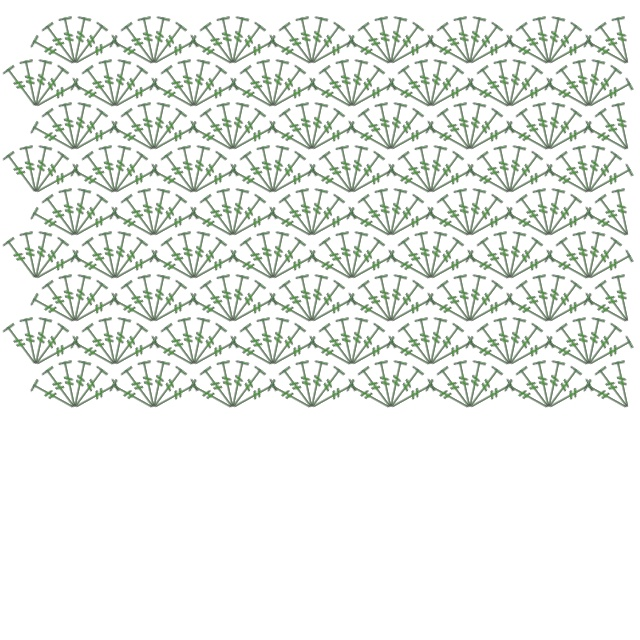fan: (40, 21, 81, 69), (69, 21, 110, 69), (119, 21, 160, 69), (148, 21, 189, 69), (198, 21, 239, 69), (227, 21, 268, 69), (277, 21, 318, 69), (306, 21, 347, 69), (356, 21, 397, 69), (385, 21, 426, 69), (435, 21, 476, 69), (464, 21, 505, 69), (514, 21, 555, 69), (543, 21, 584, 69), (593, 21, 634, 69), (1, 64, 42, 112), (30, 64, 71, 112), (80, 64, 121, 112), (109, 64, 150, 112), (159, 64, 200, 112), (188, 64, 229, 112), (238, 64, 279, 112), (267, 64, 308, 112), (317, 64, 358, 112), (346, 64, 387, 112), (396, 64, 437, 112), (425, 64, 466, 112), (475, 64, 516, 112), (504, 64, 545, 112), (554, 64, 595, 112), (583, 64, 624, 112), (40, 107, 81, 155), (69, 107, 110, 155), (119, 107, 160, 155), (148, 107, 189, 155), (198, 107, 239, 155), (227, 107, 268, 155), (277, 107, 318, 155), (306, 107, 347, 155), (356, 107, 397, 155), (385, 107, 426, 155), (435, 107, 476, 155), (464, 107, 505, 155), (514, 107, 555, 155), (543, 107, 584, 155), (593, 107, 634, 155), (1, 150, 42, 198), (30, 150, 71, 198), (80, 150, 121, 198), (109, 150, 150, 198), (159, 150, 200, 198), (188, 150, 229, 198), (238, 150, 279, 198), (267, 150, 308, 198), (317, 150, 358, 198), (346, 150, 387, 198), (396, 150, 437, 198), (425, 150, 466, 198), (475, 150, 516, 198), (504, 150, 545, 198), (554, 150, 595, 198), (583, 150, 624, 198), (40, 193, 81, 241), (69, 193, 110, 241), (119, 193, 160, 241), (148, 193, 189, 241), (198, 193, 239, 241), (227, 193, 268, 241), (277, 193, 318, 241), (306, 193, 347, 241), (356, 193, 397, 241), (385, 193, 426, 241), (435, 193, 476, 241), (464, 193, 505, 241), (514, 193, 555, 241), (543, 193, 584, 241), (593, 193, 634, 241), (1, 236, 42, 284), (30, 236, 71, 284), (80, 236, 121, 284), (109, 236, 150, 284), (159, 236, 200, 284), (188, 236, 229, 284), (238, 236, 279, 284), (267, 236, 308, 284), (317, 236, 358, 284), (346, 236, 387, 284), (396, 236, 437, 284), (425, 236, 466, 284), (475, 236, 516, 284), (504, 236, 545, 284), (554, 236, 595, 284), (583, 236, 624, 284), (40, 279, 81, 327), (69, 279, 110, 327), (119, 279, 160, 327), (148, 279, 189, 327), (198, 279, 239, 327), (227, 279, 268, 327), (277, 279, 318, 327), (306, 279, 347, 327), (356, 279, 397, 327), (385, 279, 426, 327), (435, 279, 476, 327), (464, 279, 505, 327), (514, 279, 555, 327), (543, 279, 584, 327), (593, 279, 634, 327), (1, 322, 42, 370), (30, 322, 71, 370), (80, 322, 121, 370), (109, 322, 150, 370), (159, 322, 200, 370), (188, 322, 229, 370), (238, 322, 279, 370), (267, 322, 308, 370), (317, 322, 358, 370), (346, 322, 387, 370), (396, 322, 437, 370), (425, 322, 466, 370), (475, 322, 516, 370), (504, 322, 545, 370), (554, 322, 595, 370), (583, 322, 624, 370), (40, 365, 81, 413), (69, 365, 110, 413), (119, 365, 160, 413), (148, 365, 189, 413), (198, 365, 239, 413), (227, 365, 268, 413), (277, 365, 318, 413), (306, 365, 347, 413), (356, 365, 397, 413), (385, 365, 426, 413), (435, 365, 476, 413), (464, 365, 505, 413), (514, 365, 555, 413), (543, 365, 584, 413), (593, 365, 634, 413), (29, 34, 79, 71), (71, 34, 121, 71), (108, 34, 158, 71), (150, 34, 200, 71), (187, 34, 237, 71), (229, 34, 279, 71), (266, 34, 316, 71), (308, 34, 358, 71), (345, 34, 395, 71), (387, 34, 437, 71), (424, 34, 474, 71), (466, 34, 516, 71), (503, 34, 553, 71), (545, 34, 595, 71), (582, 34, 632, 71), (32, 77, 82, 114), (69, 77, 119, 114), (111, 77, 161, 114), (148, 77, 198, 114), (190, 77, 240, 114), (227, 77, 277, 114), (269, 77, 319, 114), (306, 77, 356, 114), (348, 77, 398, 114), (385, 77, 435, 114), (427, 77, 477, 114), (464, 77, 514, 114), (506, 77, 556, 114), (543, 77, 593, 114), (585, 77, 635, 114), (29, 120, 79, 157), (71, 120, 121, 157), (108, 120, 158, 157), (150, 120, 200, 157), (187, 120, 237, 157), (229, 120, 279, 157), (266, 120, 316, 157), (308, 120, 358, 157), (345, 120, 395, 157), (387, 120, 437, 157), (424, 120, 474, 157), (466, 120, 516, 157), (503, 120, 553, 157), (545, 120, 595, 157), (582, 120, 632, 157), (32, 163, 82, 200), (69, 163, 119, 200), (111, 163, 161, 200), (148, 163, 198, 200), (190, 163, 240, 200), (227, 163, 277, 200), (269, 163, 319, 200), (306, 163, 356, 200), (348, 163, 398, 200), (385, 163, 435, 200), (427, 163, 477, 200), (464, 163, 514, 200), (506, 163, 556, 200), (543, 163, 593, 200), (585, 163, 635, 200), (29, 206, 79, 243), (71, 206, 121, 243), (108, 206, 158, 243), (150, 206, 200, 243), (187, 206, 237, 243), (229, 206, 279, 243), (266, 206, 316, 243), (308, 206, 358, 243), (345, 206, 395, 243), (387, 206, 437, 243), (424, 206, 474, 243), (466, 206, 516, 243), (503, 206, 553, 243), (545, 206, 595, 243), (582, 206, 632, 243), (32, 249, 82, 286), (69, 249, 119, 286), (111, 249, 161, 286), (148, 249, 198, 286), (190, 249, 240, 286), (227, 249, 277, 286), (269, 249, 319, 286), (306, 249, 356, 286), (348, 249, 398, 286), (385, 249, 435, 286), (427, 249, 477, 286), (464, 249, 514, 286), (506, 249, 556, 286), (543, 249, 593, 286), (585, 249, 635, 286), (29, 292, 79, 329), (71, 292, 121, 329), (108, 292, 158, 329), (150, 292, 200, 329), (187, 292, 237, 329), (229, 292, 279, 329), (266, 292, 316, 329), (308, 292, 358, 329), (345, 292, 395, 329), (387, 292, 437, 329), (424, 292, 474, 329), (466, 292, 516, 329), (503, 292, 553, 329), (545, 292, 595, 329), (582, 292, 632, 329), (32, 335, 82, 372), (69, 335, 119, 372), (111, 335, 161, 372), (148, 335, 198, 372), (190, 335, 240, 372), (227, 335, 277, 372), (269, 335, 319, 372), (306, 335, 356, 372), (348, 335, 398, 372), (385, 335, 435, 372), (427, 335, 477, 372), (464, 335, 514, 372), (506, 335, 556, 372), (543, 335, 593, 372), (585, 335, 635, 372), (29, 378, 79, 415), (71, 378, 121, 415), (108, 378, 158, 415), (150, 378, 200, 415), (187, 378, 237, 415), (229, 378, 279, 415), (266, 378, 316, 415), (308, 378, 358, 415), (345, 378, 395, 415), (387, 378, 437, 415), (424, 378, 474, 415), (466, 378, 516, 415), (503, 378, 553, 415), (545, 378, 595, 415), (582, 378, 632, 415), (57, 15, 83, 66), (67, 15, 93, 66), (136, 15, 162, 66), (146, 15, 172, 66), (215, 15, 241, 66), (225, 15, 251, 66), (294, 15, 320, 66), (304, 15, 330, 66), (373, 15, 399, 66), (383, 15, 409, 66), (452, 15, 478, 66), (462, 15, 488, 66), (531, 15, 557, 66), (541, 15, 567, 66), (610, 15, 636, 66), (18, 58, 44, 109), (28, 58, 54, 109), (97, 58, 123, 109), (107, 58, 133, 109), (176, 58, 202, 109), (186, 58, 212, 109), (255, 58, 281, 109), (265, 58, 291, 109), (334, 58, 360, 109), (344, 58, 370, 109), (413, 58, 439, 109), (423, 58, 449, 109), (492, 58, 518, 109), (502, 58, 528, 109), (571, 58, 597, 109), (581, 58, 607, 109), (57, 101, 83, 152), (67, 101, 93, 152), (136, 101, 162, 152), (146, 101, 172, 152), (215, 101, 241, 152), (225, 101, 251, 152), (294, 101, 320, 152), (304, 101, 330, 152), (373, 101, 399, 152), (383, 101, 409, 152), (452, 101, 478, 152), (462, 101, 488, 152), (531, 101, 557, 152), (541, 101, 567, 152), (610, 101, 636, 152), (18, 144, 44, 195), (28, 144, 54, 195), (97, 144, 123, 195), (107, 144, 133, 195), (176, 144, 202, 195), (186, 144, 212, 195), (255, 144, 281, 195), (265, 144, 291, 195), (334, 144, 360, 195), (344, 144, 370, 195), (413, 144, 439, 195), (423, 144, 449, 195), (492, 144, 518, 195), (502, 144, 528, 195), (571, 144, 597, 195), (581, 144, 607, 195), (57, 187, 83, 238), (67, 187, 93, 238), (136, 187, 162, 238), (146, 187, 172, 238), (215, 187, 241, 238), (225, 187, 251, 238), (294, 187, 320, 238), (304, 187, 330, 238), (373, 187, 399, 238), (383, 187, 409, 238), (452, 187, 478, 238), (462, 187, 488, 238), (531, 187, 557, 238), (541, 187, 567, 238), (610, 187, 636, 238), (18, 230, 44, 281), (28, 230, 54, 281), (97, 230, 123, 281), (107, 230, 133, 281), (176, 230, 202, 281), (186, 230, 212, 281), (255, 230, 281, 281), (265, 230, 291, 281), (334, 230, 360, 281), (344, 230, 370, 281), (413, 230, 439, 281), (423, 230, 449, 281), (492, 230, 518, 281), (502, 230, 528, 281), (571, 230, 597, 281), (581, 230, 607, 281), (57, 273, 83, 324), (67, 273, 93, 324), (136, 273, 162, 324), (146, 273, 172, 324), (215, 273, 241, 324), (225, 273, 251, 324), (294, 273, 320, 324), (304, 273, 330, 324), (373, 273, 399, 324), (383, 273, 409, 324), (452, 273, 478, 324), (462, 273, 488, 324), (531, 273, 557, 324), (541, 273, 567, 324), (610, 273, 636, 324), (18, 316, 44, 367), (28, 316, 54, 367), (97, 316, 123, 367), (107, 316, 133, 367), (176, 316, 202, 367), (186, 316, 212, 367), (255, 316, 281, 367), (265, 316, 291, 367), (334, 316, 360, 367), (344, 316, 370, 367), (413, 316, 439, 367), (423, 316, 449, 367), (492, 316, 518, 367), (502, 316, 528, 367), (571, 316, 597, 367), (581, 316, 607, 367), (57, 359, 83, 410), (67, 359, 93, 410), (136, 359, 162, 410), (146, 359, 172, 410), (215, 359, 241, 410), (225, 359, 251, 410), (294, 359, 320, 410), (304, 359, 330, 410), (373, 359, 399, 410), (383, 359, 409, 410), (452, 359, 478, 410), (462, 359, 488, 410), (531, 359, 557, 410), (541, 359, 567, 410), (610, 359, 636, 410)
